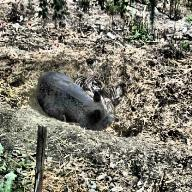boar: (27, 52, 128, 141)
